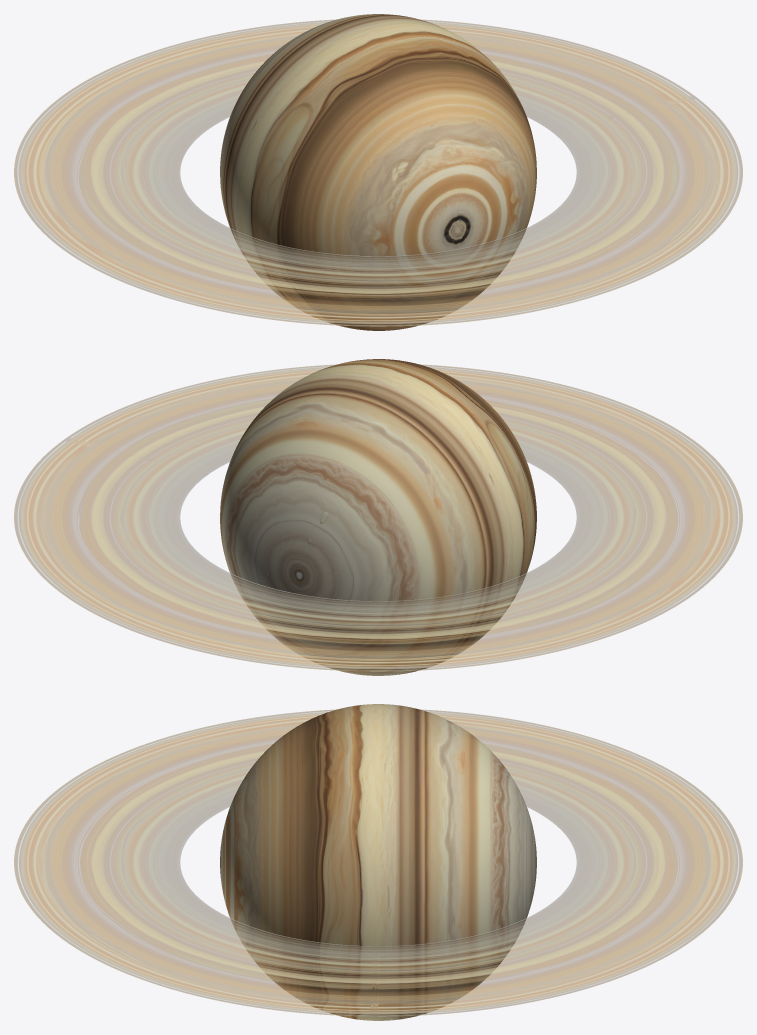
File: saturn2.glb
3 views of the same model, one above another, from view 1: azimuth 30°, elevation 25°; view 2: azimuth 150°, elevation 25°; view 3: azimuth 270°, elevation 25° (orthographic).
Parts seen in each view (by area): view 1: Saturn_Rings, Saturn_Planet; view 2: Saturn_Rings, Saturn_Planet; view 3: Saturn_Rings, Saturn_Planet.
Part boxes in pixels (x1,y1,x2,y2): Saturn_Rings: [14, 19, 742, 326]; Saturn_Planet: [220, 14, 536, 330]; Saturn_Rings: [14, 364, 742, 671]; Saturn_Planet: [220, 359, 536, 675]; Saturn_Rings: [14, 709, 742, 1016]; Saturn_Planet: [220, 704, 536, 1020].
Size of the model in its own units: 4.6 by 2 by 4.6.
2 materials, 2 textured.
